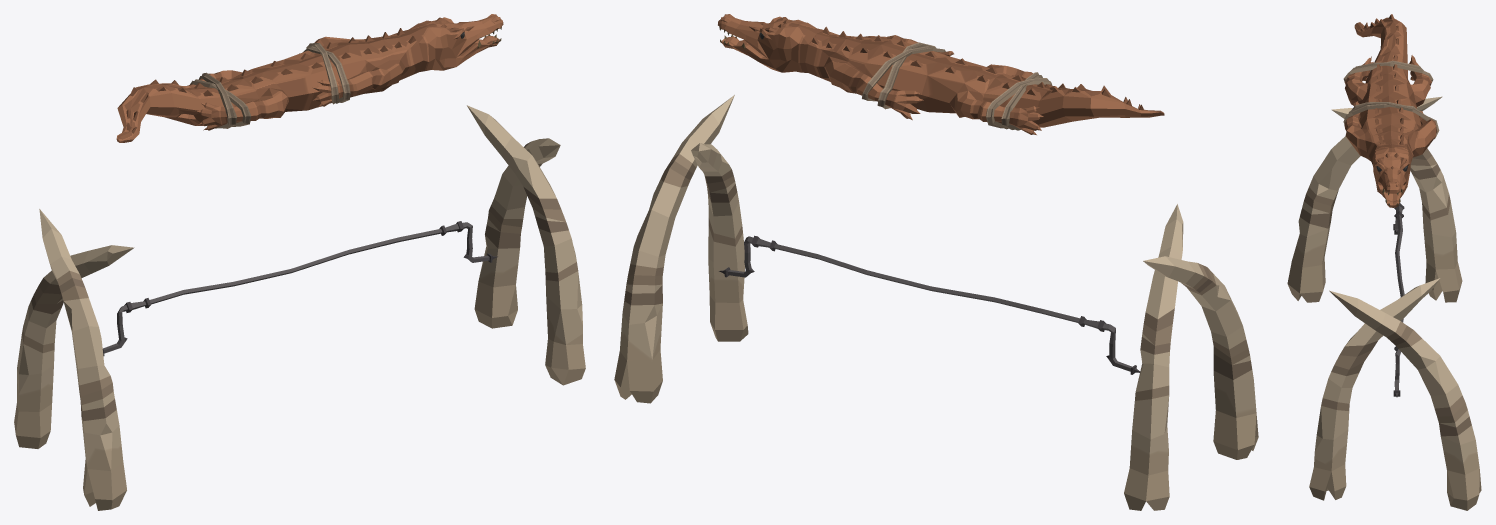
The model's file is bog_spit.gltf.
The picture shows the model from 3 angles, left to right: view 1: azimuth 30°, elevation 25°; view 2: azimuth 150°, elevation 25°; view 3: azimuth 270°, elevation 25°; orthographic projection. The views are drawn at different scales.
Visible parts, largest first — view 1: bog_spit; view 2: bog_spit; view 3: bog_spit.
Part boxes in pixels (x1,y1,x2,y2): bog_spit: (14, 14, 585, 510); bog_spit: (614, 14, 1258, 510); bog_spit: (1287, 14, 1481, 510).
Size of the model in its own units: 4.16 by 2.78 by 1.53.
Materials: 1 (1 with a texture image).
